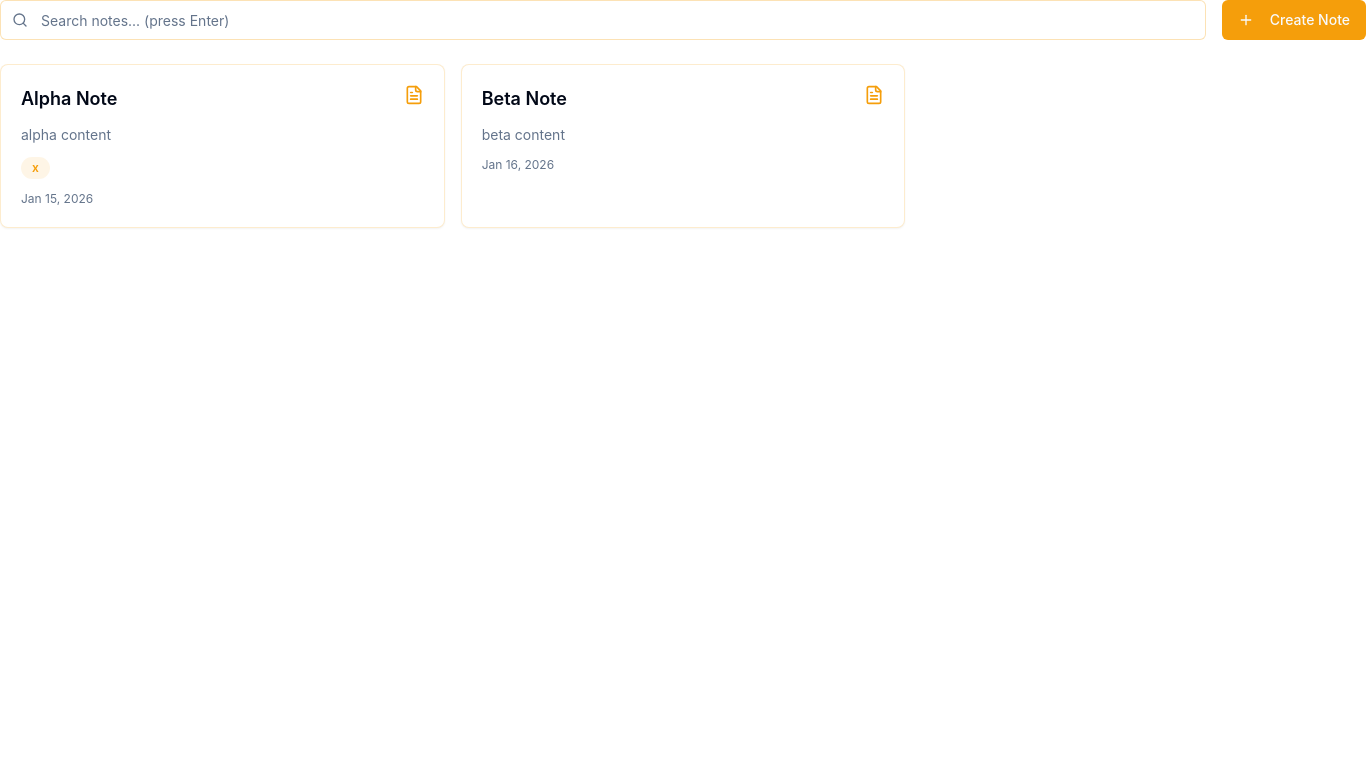
Test: NoteGrid › opens NoteEditor in create mode when Create Note button clicked
This screenshot has width=1366, height=768.
Step 1. Click the button "Create Note" → (1294,20), box [1222, 0, 1365, 40]
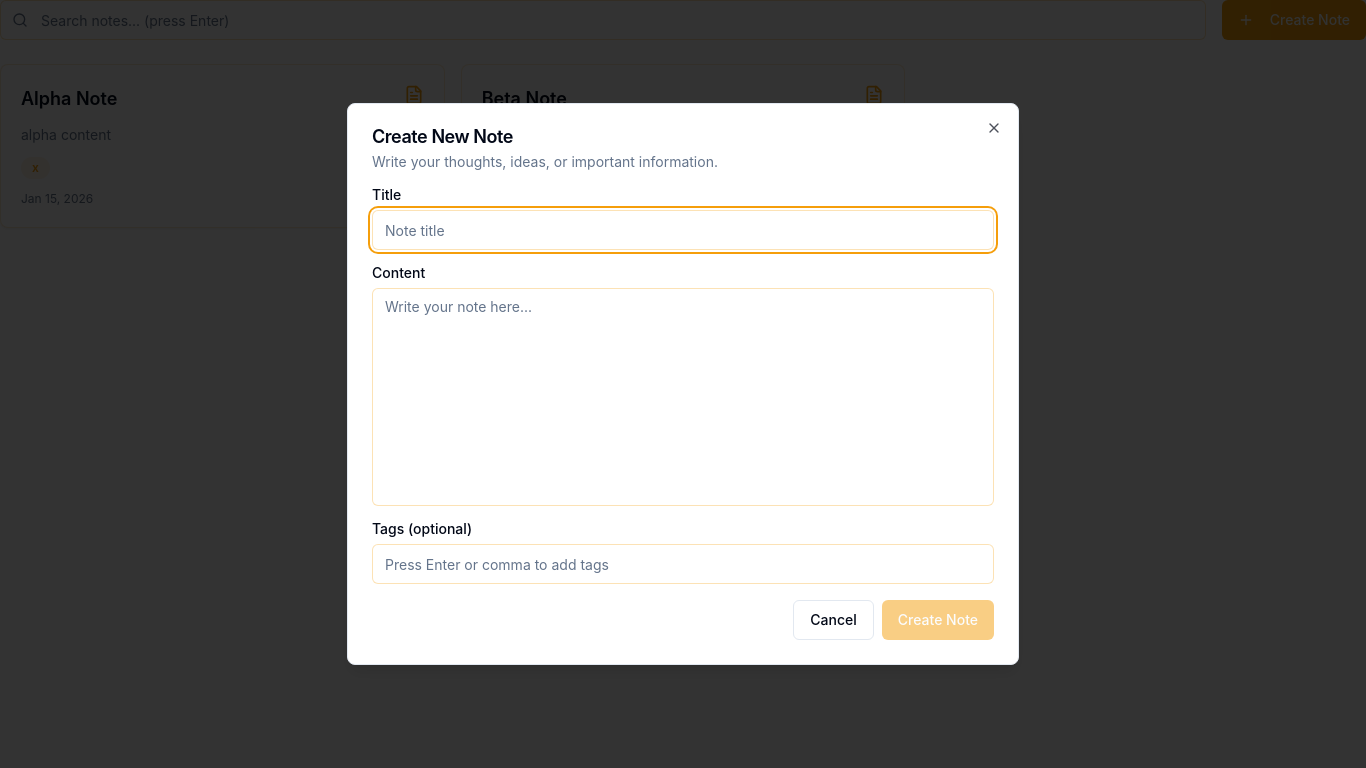
Expected: the heading "Create New Note" is shown, [372, 126, 513, 147]
